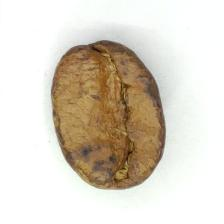NG: (61, 47, 147, 181)
